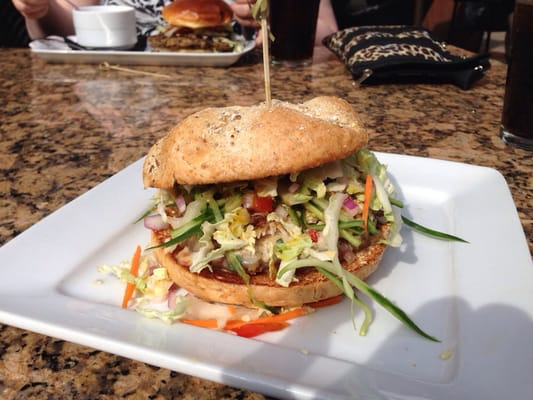soup: (139, 95, 408, 324)
